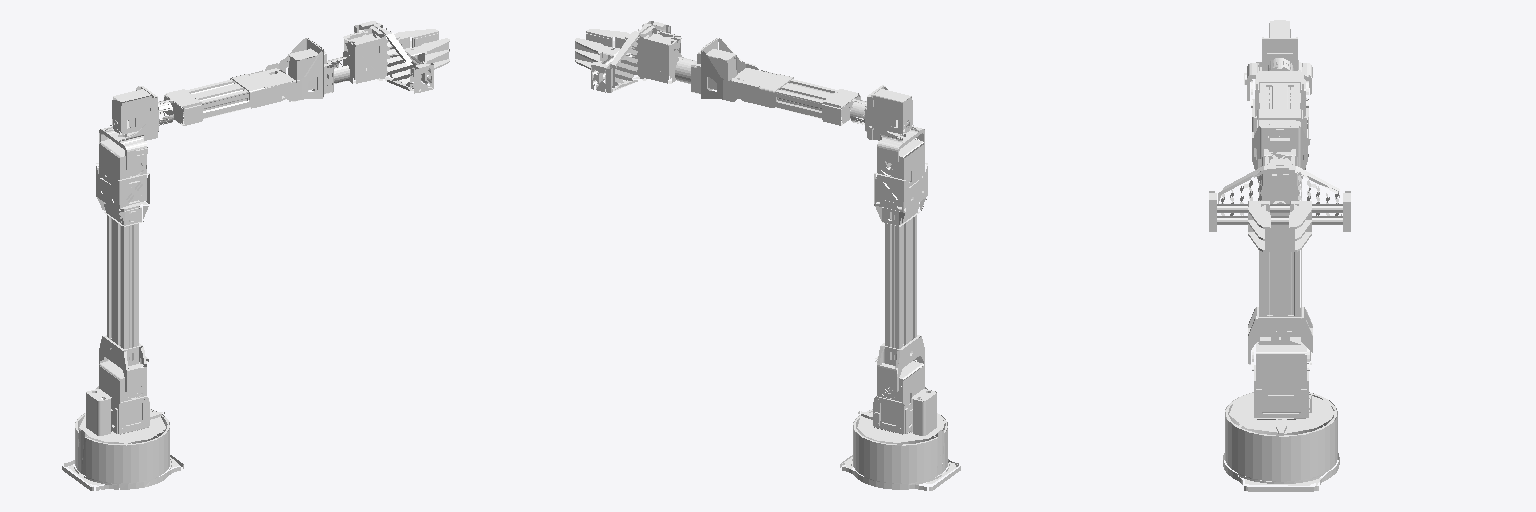
The robot description file, URDF, robot "d1_description":
<?xml version="1.0" encoding="utf-8"?>
<!-- This URDF was automatically created by SolidWorks to URDF Exporter! Originally created by Stephen Brawner (brawner@gmail.com)
     Commit Version: 1.6.0-4-g7f85cfe  Build Version: 1.6.7995.38578
     For more information, please see http://wiki.ros.org/sw_urdf_exporter -->
<robot
  name="d1_description">
  <link
    name="base_link">
    <inertial>
      <origin
        xyz="-0.00048697 -2.9605E-12 0.017142"
        rpy="0 0 0" />
      <mass
        value="0.077233" />
      <inertia
        ixx="0.00010316"
        ixy="-1.0285E-14"
        ixz="2.0449E-07"
        iyy="0.00011888"
        iyz="7.3026E-15"
        izz="0.00018362" />
    </inertial>
    <visual>
      <origin
        xyz="0 0 0"
        rpy="0 0 0" />
      <geometry>
        <mesh
          filename="package://d1_description/meshes/base_link.STL" />
      </geometry>
      <material
        name="">
        <color
          rgba="1 1 1 1" />
      </material>
    </visual>
    <collision>
      <origin
        xyz="0 0 0"
        rpy="0 0 0" />
      <geometry>
        <mesh
          filename="package://d1_description/meshes/base_link.STL" />
      </geometry>
    </collision>
  </link>
  <link
    name="Link1">
    <inertial>
      <origin
        xyz="0.0024649 0.00010517 0.032696"
        rpy="0 0 0" />
      <mass
        value="0.13174" />
      <inertia
        ixx="6.7236E-05"
        ixy="-5.5664E-08"
        ixz="7.0454E-08"
        iyy="5.416E-05"
        iyz="-3.5709E-07"
        izz="4.6637E-05" />
    </inertial>
    <visual>
      <origin
        xyz="0 0 0"
        rpy="0 0 0" />
      <geometry>
        <mesh
          filename="package://d1_description/meshes/Link1.STL" />
      </geometry>
      <material
        name="">
        <color
          rgba="1 1 1 1" />
      </material>
    </visual>
    <collision>
      <origin
        xyz="0 0 0"
        rpy="0 0 0" />
      <geometry>
        <mesh
          filename="package://d1_description/meshes/Link1.STL" />
      </geometry>
    </collision>
  </link>
  <joint
    name="Joint1"
    type="revolute">
    <origin
      xyz="0 0 0.0533"
      rpy="0 0 -3.1416" />
    <parent
      link="base_link" />
    <child
      link="Link1" />
    <axis
      xyz="0 0 1" />
    <limit
      lower="-2.35"
      upper="2.35"
      effort="0"
      velocity="0" />
  </joint>
  <link
    name="Link2">
    <inertial>
      <origin
        xyz="0.0002018 0.19201 -0.027007"
        rpy="0 0 0" />
      <mass
        value="0.20213" />
      <inertia
        ixx="0.00025682"
        ixy="-1.139E-07"
        ixz="5.5667E-08"
        iyy="6.3307E-05"
        iyz="-3.5717E-07"
        izz="0.00022968" />
    </inertial>
    <visual>
      <origin
        xyz="0 0 0"
        rpy="0 0 0" />
      <geometry>
        <mesh
          filename="package://d1_description/meshes/Link2.STL" />
      </geometry>
      <material
        name="">
        <color
          rgba="1 1 1 1" />
      </material>
    </visual>
    <collision>
      <origin
        xyz="0 0 0"
        rpy="0 0 0" />
      <geometry>
        <mesh
          filename="package://d1_description/meshes/Link2.STL" />
      </geometry>
    </collision>
  </link>
  <joint
    name="Joint2"
    type="revolute">
    <origin
      xyz="0 0.028 0.0563"
      rpy="1.5708 0 -3.1416" />
    <parent
      link="Link1" />
    <child
      link="Link2" />
    <axis
      xyz="0 0 -1" />
    <limit
      lower="-1.57"
      upper="1.57"
      effort="0"
      velocity="0" />
  </joint>
  <link
    name="Link3">
    <inertial>
      <origin
        xyz="0.015164 0.044482 -0.027461"
        rpy="0 0 0" />
      <mass
        value="0.0629" />
      <inertia
        ixx="1.7232E-05"
        ixy="-2.6967E-06"
        ixz="-9.4911E-11"
        iyy="1.2606E-05"
        iyz="-9.9169E-11"
        izz="1.4964E-05" />
    </inertial>
    <visual>
      <origin
        xyz="0 0 0"
        rpy="0 0 0" />
      <geometry>
        <mesh
          filename="package://d1_description/meshes/Link3.STL" />
      </geometry>
      <material
        name="">
        <color
          rgba="1 1 1 1" />
      </material>
    </visual>
    <collision>
      <origin
        xyz="0 0 0"
        rpy="0 0 0" />
      <geometry>
        <mesh
          filename="package://d1_description/meshes/Link3.STL" />
      </geometry>
    </collision>
  </link>
  <joint
    name="Joint3"
    type="revolute">
    <origin
      xyz="0 0.2693 0.0009"
      rpy="0 0 0" />
    <parent
      link="Link2" />
    <child
      link="Link3" />
    <axis
      xyz="0 0 -1" />
    <limit
      lower="-1.57"
      upper="1.57"
      effort="0"
      velocity="0" />
  </joint>
  <link
    name="Link4">
    <inertial>
      <origin
        xyz="-0.00029556 -0.00016104 0.091339"
        rpy="0 0 0" />
      <mass
        value="0.083332" />
      <inertia
        ixx="3.9308E-05"
        ixy="1.0126E-08"
        ixz="-9.4316E-08"
        iyy="3.4378E-05"
        iyz="-1.6915E-09"
        izz="1.1597E-05" />
    </inertial>
    <visual>
      <origin
        xyz="0 0 0"
        rpy="0 0 0" />
      <geometry>
        <mesh
          filename="package://d1_description/meshes/Link4.STL" />
      </geometry>
      <material
        name="">
        <color
          rgba="1 1 1 1" />
      </material>
    </visual>
    <collision>
      <origin
        xyz="0 0 0"
        rpy="0 0 0" />
      <geometry>
        <mesh
          filename="package://d1_description/meshes/Link4.STL" />
      </geometry>
    </collision>
  </link>
  <joint
    name="Joint4"
    type="revolute">
    <origin
      xyz="0.0577 0.042 -0.0275"
      rpy="-1.5708 0 -1.5708" />
    <parent
      link="Link3" />
    <child
      link="Link4" />
    <axis
      xyz="0 0 1" />
    <limit
      lower="-2.35"
      upper="2.35"
      effort="0"
      velocity="0" />
  </joint>
  <link
    name="Link5">
    <inertial>
      <origin
        xyz="0.040573 0.0062891 -0.023838"
        rpy="0 0 0" />
      <mass
        value="0.053817" />
      <inertia
        ixx="1.3072E-05"
        ixy="-3.9511E-07"
        ixz="-3.1889E-10"
        iyy="8.6301E-06"
        iyz="-1.8416E-09"
        izz="1.1049E-05" />
    </inertial>
    <visual>
      <origin
        xyz="0 0 0"
        rpy="0 0 0" />
      <geometry>
        <mesh
          filename="package://d1_description/meshes/Link5.STL" />
      </geometry>
      <material
        name="">
        <color
          rgba="1 1 1 1" />
      </material>
    </visual>
    <collision>
      <origin
        xyz="0 0 0"
        rpy="0 0 0" />
      <geometry>
        <mesh
          filename="package://d1_description/meshes/Link5.STL" />
      </geometry>
    </collision>
  </link>
  <joint
    name="Joint5"
    type="revolute">
    <origin
      xyz="-0.0001 -0.0237 0.14018"
      rpy="1.5708 -1.5708 0" />
    <parent
      link="Link4" />
    <child
      link="Link5" />
    <axis
      xyz="0 0 -1" />
    <limit
      lower="-1.57"
      upper="1.57"
      effort="0"
      velocity="0" />
  </joint>
  <link
    name="Link6">
    <inertial>
      <origin
        xyz="-0.0068528 -3.9973E-06 0.039705"
        rpy="0 0 0" />
      <mass
        value="0.077892" />
      <inertia
        ixx="3.8236E-05"
        ixy="1.3465E-08"
        ixz="-2.0614E-07"
        iyy="1.7707E-05"
        iyz="-6.7117E-10"
        izz="4.8839E-05" />
    </inertial>
    <visual>
      <origin
        xyz="0 0 0"
        rpy="0 0 0" />
      <geometry>
        <mesh
          filename="package://d1_description/meshes/Link6.STL" />
      </geometry>
      <material
        name="">
        <color
          rgba="1 1 1 1" />
      </material>
    </visual>
    <collision>
      <origin
        xyz="0 0 0"
        rpy="0 0 0" />
      <geometry>
        <mesh
          filename="package://d1_description/meshes/Link6.STL" />
      </geometry>
    </collision>
  </link>
  <joint
    name="Joint6"
    type="revolute">
    <origin
      xyz="0.0825 -0.0010782 -0.023822"
      rpy="-1.5708 0 -1.5708" />
    <parent
      link="Link5" />
    <child
      link="Link6" />
    <axis
      xyz="0 0 -1" />
    <limit
      lower="-2.35"
      upper="2.35"
      effort="0"
      velocity="0" />
  </joint>
  <link
    name="Link7_1">
    <inertial>
      <origin
        xyz="0.018927 0.006 0.012082"
        rpy="0 0 0" />
      <mass
        value="0.015046" />
      <inertia
        ixx="1.2692E-06"
        ixy="7.7441E-20"
        ixz="-1.133E-07"
        iyy="2.0229E-06"
        iyz="1.2044E-20"
        izz="2.6177E-06" />
    </inertial>
    <visual>
      <origin
        xyz="0 0 0"
        rpy="0 0 0" />
      <geometry>
        <mesh
          filename="package://d1_description/meshes/Link7_1.STL" />
      </geometry>
      <material
        name="">
        <color
          rgba="1 1 1 1" />
      </material>
    </visual>
    <collision>
      <origin
        xyz="0 0 0"
        rpy="0 0 0" />
      <geometry>
        <mesh
          filename="package://d1_description/meshes/Link7_1.STL" />
      </geometry>
    </collision>
  </link>
  <joint
    name="Joint7_1"
    type="prismatic">
    <origin
      xyz="-0.0056012 -0.029636 0.0706"
      rpy="-1.5714 -1.5708 0" />
    <parent
      link="Link6" />
    <child
      link="Link7_1" />
    <axis
      xyz="0 0 -1" />
    <limit
      lower="0"
      upper="0.03"
      effort="0"
      velocity="0" />
  </joint>
  <link
    name="Link7_2">
    <inertial>
      <origin
        xyz="0.018927 -0.006 0.012082"
        rpy="0 0 0" />
      <mass
        value="0.015046" />
      <inertia
        ixx="1.2692E-06"
        ixy="-7.8273E-20"
        ixz="-1.133E-07"
        iyy="2.0229E-06"
        iyz="-1.2122E-20"
        izz="2.6177E-06" />
    </inertial>
    <visual>
      <origin
        xyz="0 0 0"
        rpy="0 0 0" />
      <geometry>
        <mesh
          filename="package://d1_description/meshes/Link7_2.STL" />
      </geometry>
      <material
        name="">
        <color
          rgba="1 1 1 1" />
      </material>
    </visual>
    <collision>
      <origin
        xyz="0 0 0"
        rpy="0 0 0" />
      <geometry>
        <mesh
          filename="package://d1_description/meshes/Link7_2.STL" />
      </geometry>
    </collision>
  </link>
  <joint
    name="Joint7_2"
    type="prismatic">
    <origin
      xyz="-0.0056388 0.02964 0.0706"
      rpy="1.5702 -1.5708 0" />
    <parent
      link="Link6" />
    <child
      link="Link7_2" />
    <axis
      xyz="0 0 1" />
    <limit
      lower="-0.03"
      upper="0"
      effort="0"
      velocity="0" />
  </joint>
</robot>

--- What the picture shows (computed from the rendered views, not written in the file) ---
The picture shows the robot from 3 angles, left to right: view 1: azimuth 30°, elevation 25°; view 2: azimuth 150°, elevation 25°; view 3: azimuth 270°, elevation 25°; orthographic projection.
Model d1_description with 9 links and 8 joints (6 revolute, 2 prismatic), rooted at base_link, posed every joint at zero.
Links seen in each view (by area): view 1: Link2, base_link, Link1, Link4, Link6, Link3, Link5, Link7_1, Link7_2; view 2: Link2, base_link, Link1, Link4, Link6, Link3, Link5, Link7_2, Link7_1; view 3: base_link, Link1, Link2, Link6, Link4, Link3, Link5, Link7_1, Link7_2.
Boxes of the visible links, x1,y1,x2,y2 form: Link2: [96, 137, 149, 392]; base_link: [62, 409, 183, 490]; Link1: [79, 360, 165, 443]; Link4: [164, 68, 295, 125]; Link6: [343, 21, 433, 93]; Link3: [99, 86, 173, 170]; Link5: [265, 38, 349, 101]; Link7_1: [399, 38, 449, 69]; Link7_2: [393, 29, 438, 54]; Link2: [874, 136, 927, 392]; base_link: [840, 409, 960, 490]; Link1: [857, 360, 944, 442]; Link4: [729, 68, 860, 125]; Link6: [591, 21, 681, 92]; Link3: [850, 85, 924, 170]; Link5: [675, 38, 758, 101]; Link7_2: [575, 38, 625, 70]; Link7_1: [586, 29, 631, 54]; base_link: [1223, 392, 1339, 491]; Link1: [1229, 342, 1334, 435]; Link2: [1248, 79, 1312, 363]; Link6: [1209, 152, 1350, 231]; Link4: [1256, 71, 1303, 149]; Link3: [1244, 20, 1312, 100]; Link5: [1252, 123, 1310, 186]; Link7_1: [1248, 201, 1270, 251]; Link7_2: [1289, 201, 1311, 251].
Bounding box of the posed robot: 0.465 × 0.132 × 0.4586 m (x, y, z).
Meshes: 9 distinct files referenced, 9 mesh visuals loaded (9 binary STL).
